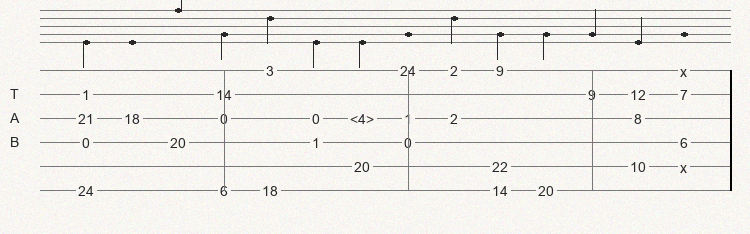0: (82, 135, 94, 149), (220, 111, 232, 125), (312, 111, 324, 125), (404, 135, 416, 149)
1: (82, 87, 94, 101), (312, 135, 324, 149), (404, 111, 416, 125)
10: (630, 159, 650, 173)
12: (630, 87, 650, 101)
14: (216, 87, 236, 101), (492, 183, 512, 197)
18: (124, 111, 144, 125), (262, 183, 282, 197)
2: (450, 63, 462, 77), (450, 111, 462, 125)
20: (170, 135, 190, 149), (354, 159, 374, 173), (538, 183, 558, 197)
21: (78, 111, 98, 125)
22: (492, 159, 512, 173)
24: (78, 183, 98, 197), (400, 63, 420, 77)
3: (266, 63, 278, 77)
6: (220, 183, 232, 197), (680, 135, 692, 149)
7: (680, 87, 692, 101)
8: (634, 111, 646, 125)
9: (496, 63, 508, 77), (588, 87, 600, 101)
harmonic: (350, 111, 378, 125)
x: (680, 64, 691, 76), (680, 160, 691, 172)
